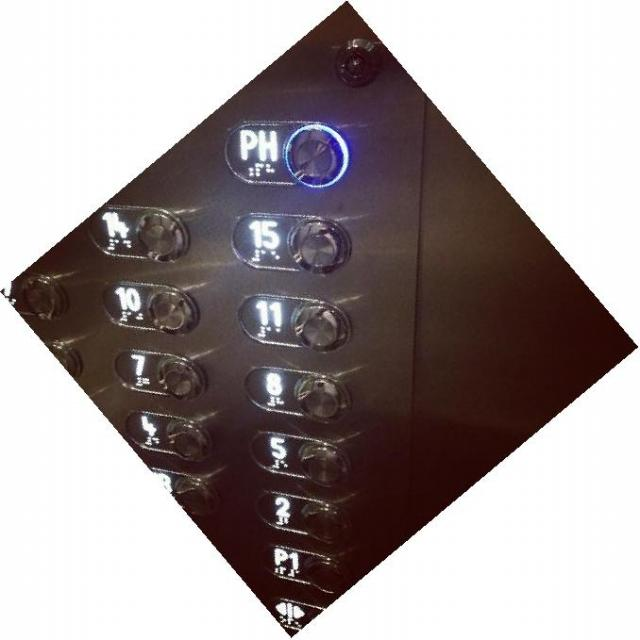10: (96, 275, 200, 334)
11: (236, 288, 353, 354)
14: (87, 202, 191, 260)
15: (229, 206, 351, 274)
2: (255, 485, 350, 546)
4: (122, 407, 212, 462)
5: (246, 429, 352, 487)
7: (110, 344, 208, 402)
8: (242, 358, 351, 423)
P1: (260, 540, 344, 595)
PH: (221, 115, 351, 189)
